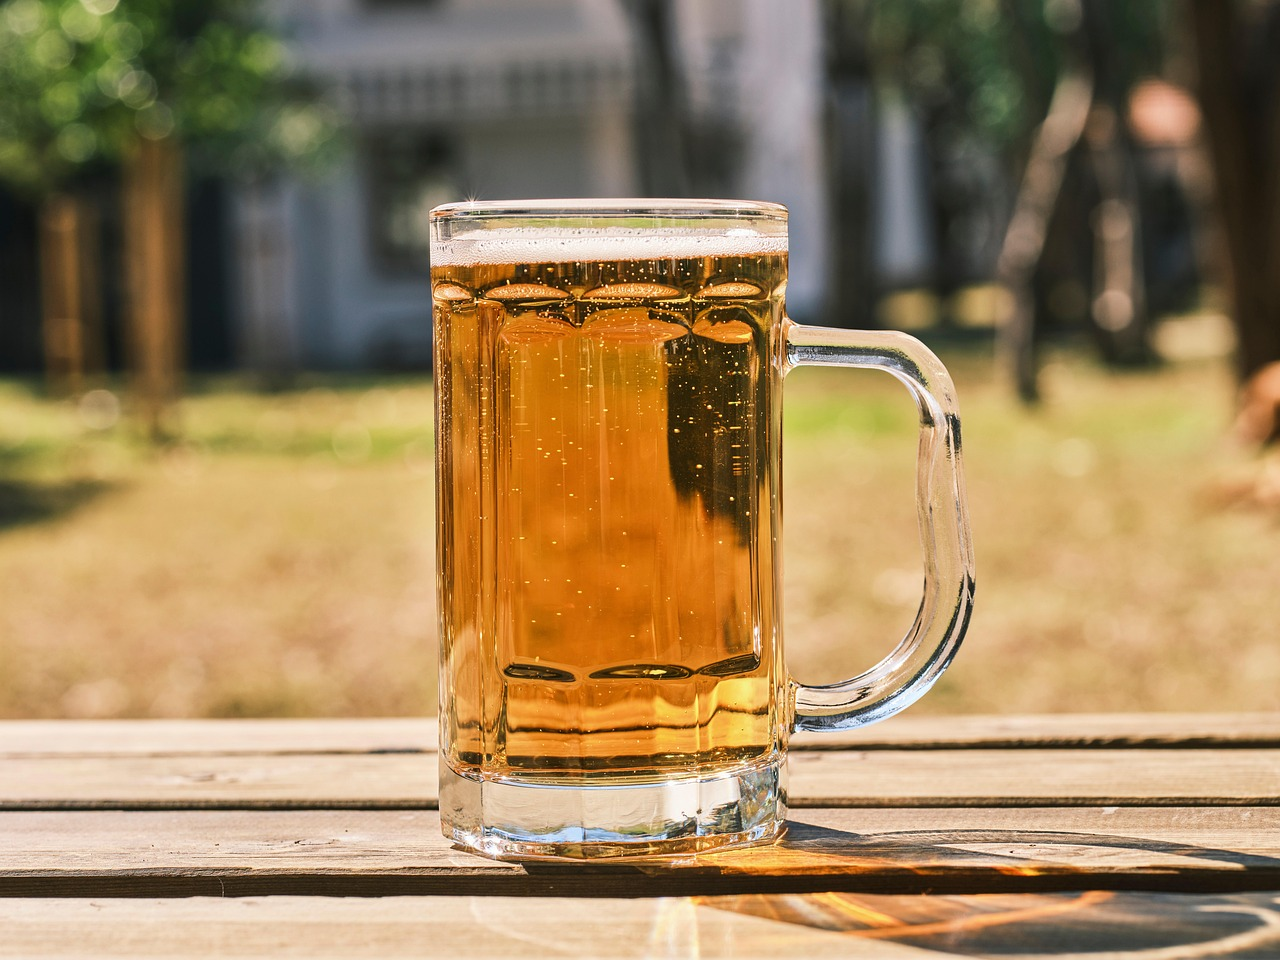mug: (314, 161, 1055, 856)
